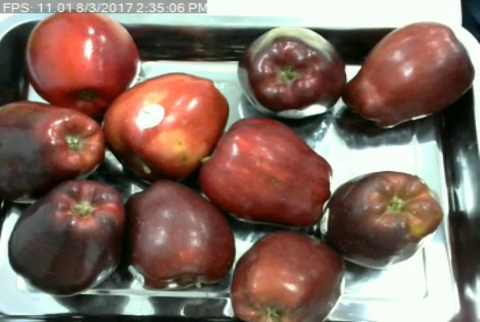Apple: (195, 114, 335, 232), (3, 177, 131, 297), (340, 20, 477, 130), (97, 69, 229, 182), (117, 176, 237, 293), (21, 6, 142, 116), (323, 167, 445, 271), (227, 227, 346, 322), (236, 25, 349, 122), (0, 99, 108, 192)
